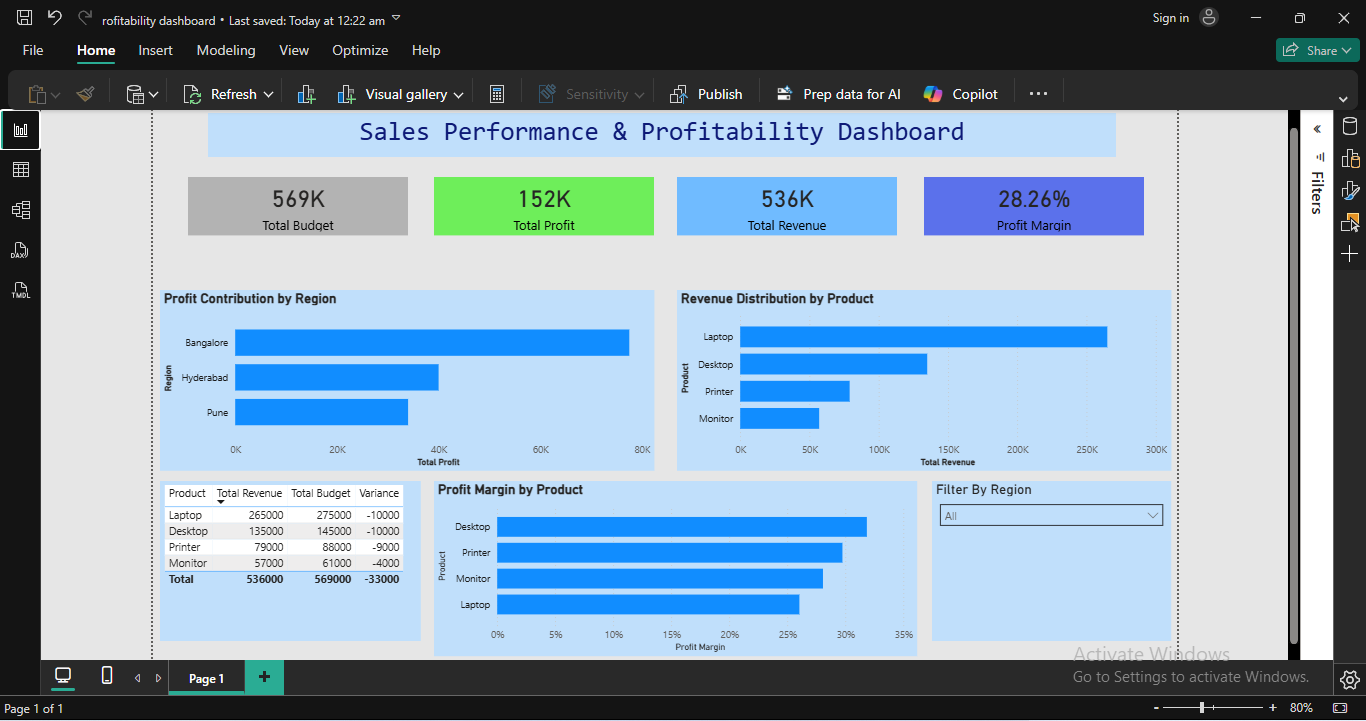

What the dashboard file says about the page in this screenshot:
{"tool":"powerbi","page":{"name":"Page 1","canvas":[1280,720],"ordinal":0},"visuals":[{"type":"card","fields":{"Values":["sales.Total Budget"]},"box":[43.8,96.2,275,72.5],"z":0},{"type":"card","fields":{"Values":["sales.Total Profit"]},"box":[351.2,96.2,275,72.5],"z":1000},{"type":"card","fields":{"Values":["sales.Total Revenue"]},"box":[655,96.2,275,72.5],"z":2000},{"type":"clusteredBarChart","title":"Revenue Distribution by Product","fields":{"Category":["sales.Product"],"Y":["sales.Total Revenue"]},"box":[655,237.5,617.5,226.2],"z":3000},{"type":"barChart","title":"Profit Contribution by Region","fields":{"Category":["sales.Region"],"Y":["sales.Total Profit"]},"box":[8.8,237.5,617.5,226.2],"z":4000},{"type":"tableEx","fields":{"Values":["sales.Product","sales.Total Revenue","sales.Total Budget","sales.Variance"]},"box":[8.6,475.7,325.7,200],"z":5000},{"type":"slicer","title":" Filter By Region","fields":{"Values":["sales.Region"]},"box":[974.3,475.7,298.6,200],"z":6000},{"type":"textbox","box":[68.8,16.2,1135,55],"z":7000},{"type":"card","fields":{"Values":["sales.Profit Margin"]},"box":[963.8,96.2,275,72.5],"z":8000},{"type":"barChart","fields":{"Category":["sales.Product"],"Y":["sales.Profit Margin"]},"box":[351.2,476.2,603.8,218.8],"z":8001}]}

Visuals, with their boxes on the page's 1280x720 design canvas (x1, y1, x2, y2). These are canvas units, not pixel positions in the 1366x721 screenshot, which may show the page scaled, cropped or inside an application window:
card - sales.Total Budget: 44 96 319 169
card - sales.Total Profit: 351 96 626 169
card - sales.Total Revenue: 655 96 930 169
"Revenue Distribution by Product" clusteredBarChart: 655 238 1272 464
"Profit Contribution by Region" barChart: 9 238 626 464
tableEx - sales.Product x sales.Total Revenue: 9 476 334 676
" Filter By Region" slicer: 974 476 1273 676
textbox: 69 16 1204 71
card - sales.Profit Margin: 964 96 1239 169
barChart - sales.Product x sales.Profit Margin: 351 476 955 695
